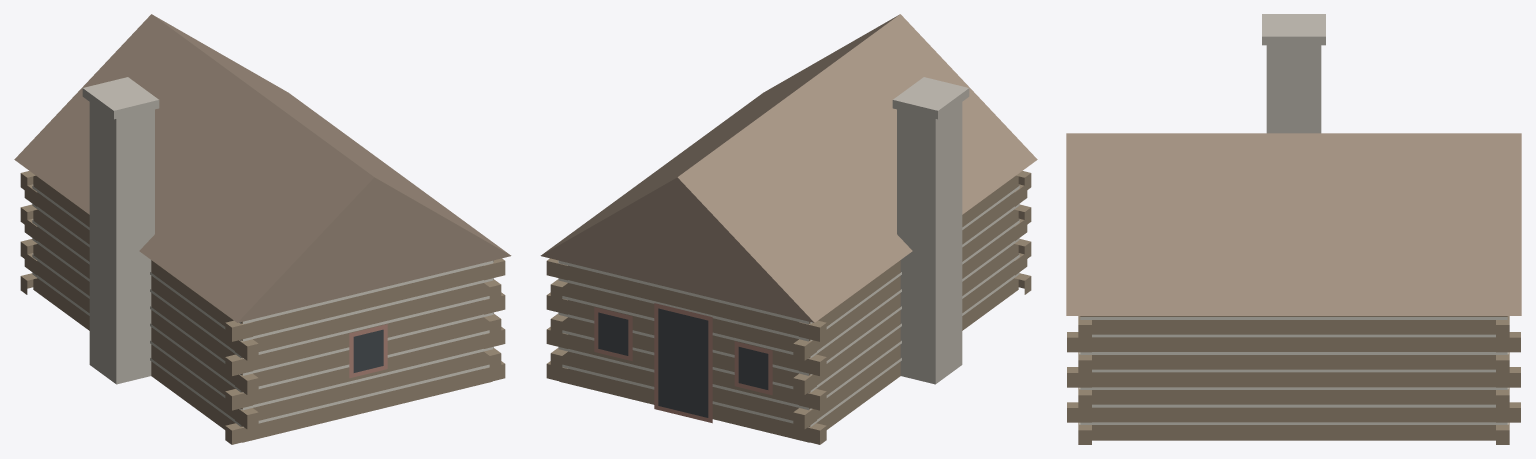
Rendered from recon_1835_blk_randolph_dearborn_d1_12__inferred_1835.glb.
3 views of the same model, side by side, from view 1: azimuth 30°, elevation 25°; view 2: azimuth 150°, elevation 25°; view 3: azimuth 270°, elevation 25° (orthographic). The views are drawn at different scales.
Parts seen in each view (by area): view 1: recon_1835_blk_randolph_dearborn_d1_12__inferred_1835; view 2: recon_1835_blk_randolph_dearborn_d1_12__inferred_1835; view 3: recon_1835_blk_randolph_dearborn_d1_12__inferred_1835.
Part boxes in pixels (x1=…): recon_1835_blk_randolph_dearborn_d1_12__inferred_1835: x1=14, y1=14, x2=511, y2=444; recon_1835_blk_randolph_dearborn_d1_12__inferred_1835: x1=540, y1=14, x2=1037, y2=444; recon_1835_blk_randolph_dearborn_d1_12__inferred_1835: x1=1066, y1=14, x2=1521, y2=444.
Bounding box in the file's own units: 6.26 × 5.54 × 8.01.
